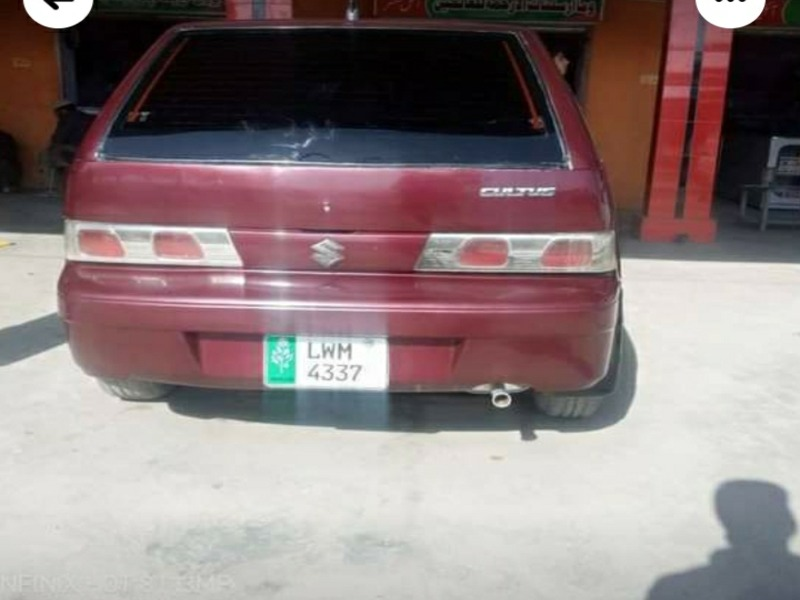License Plate: (259, 332, 397, 402)
